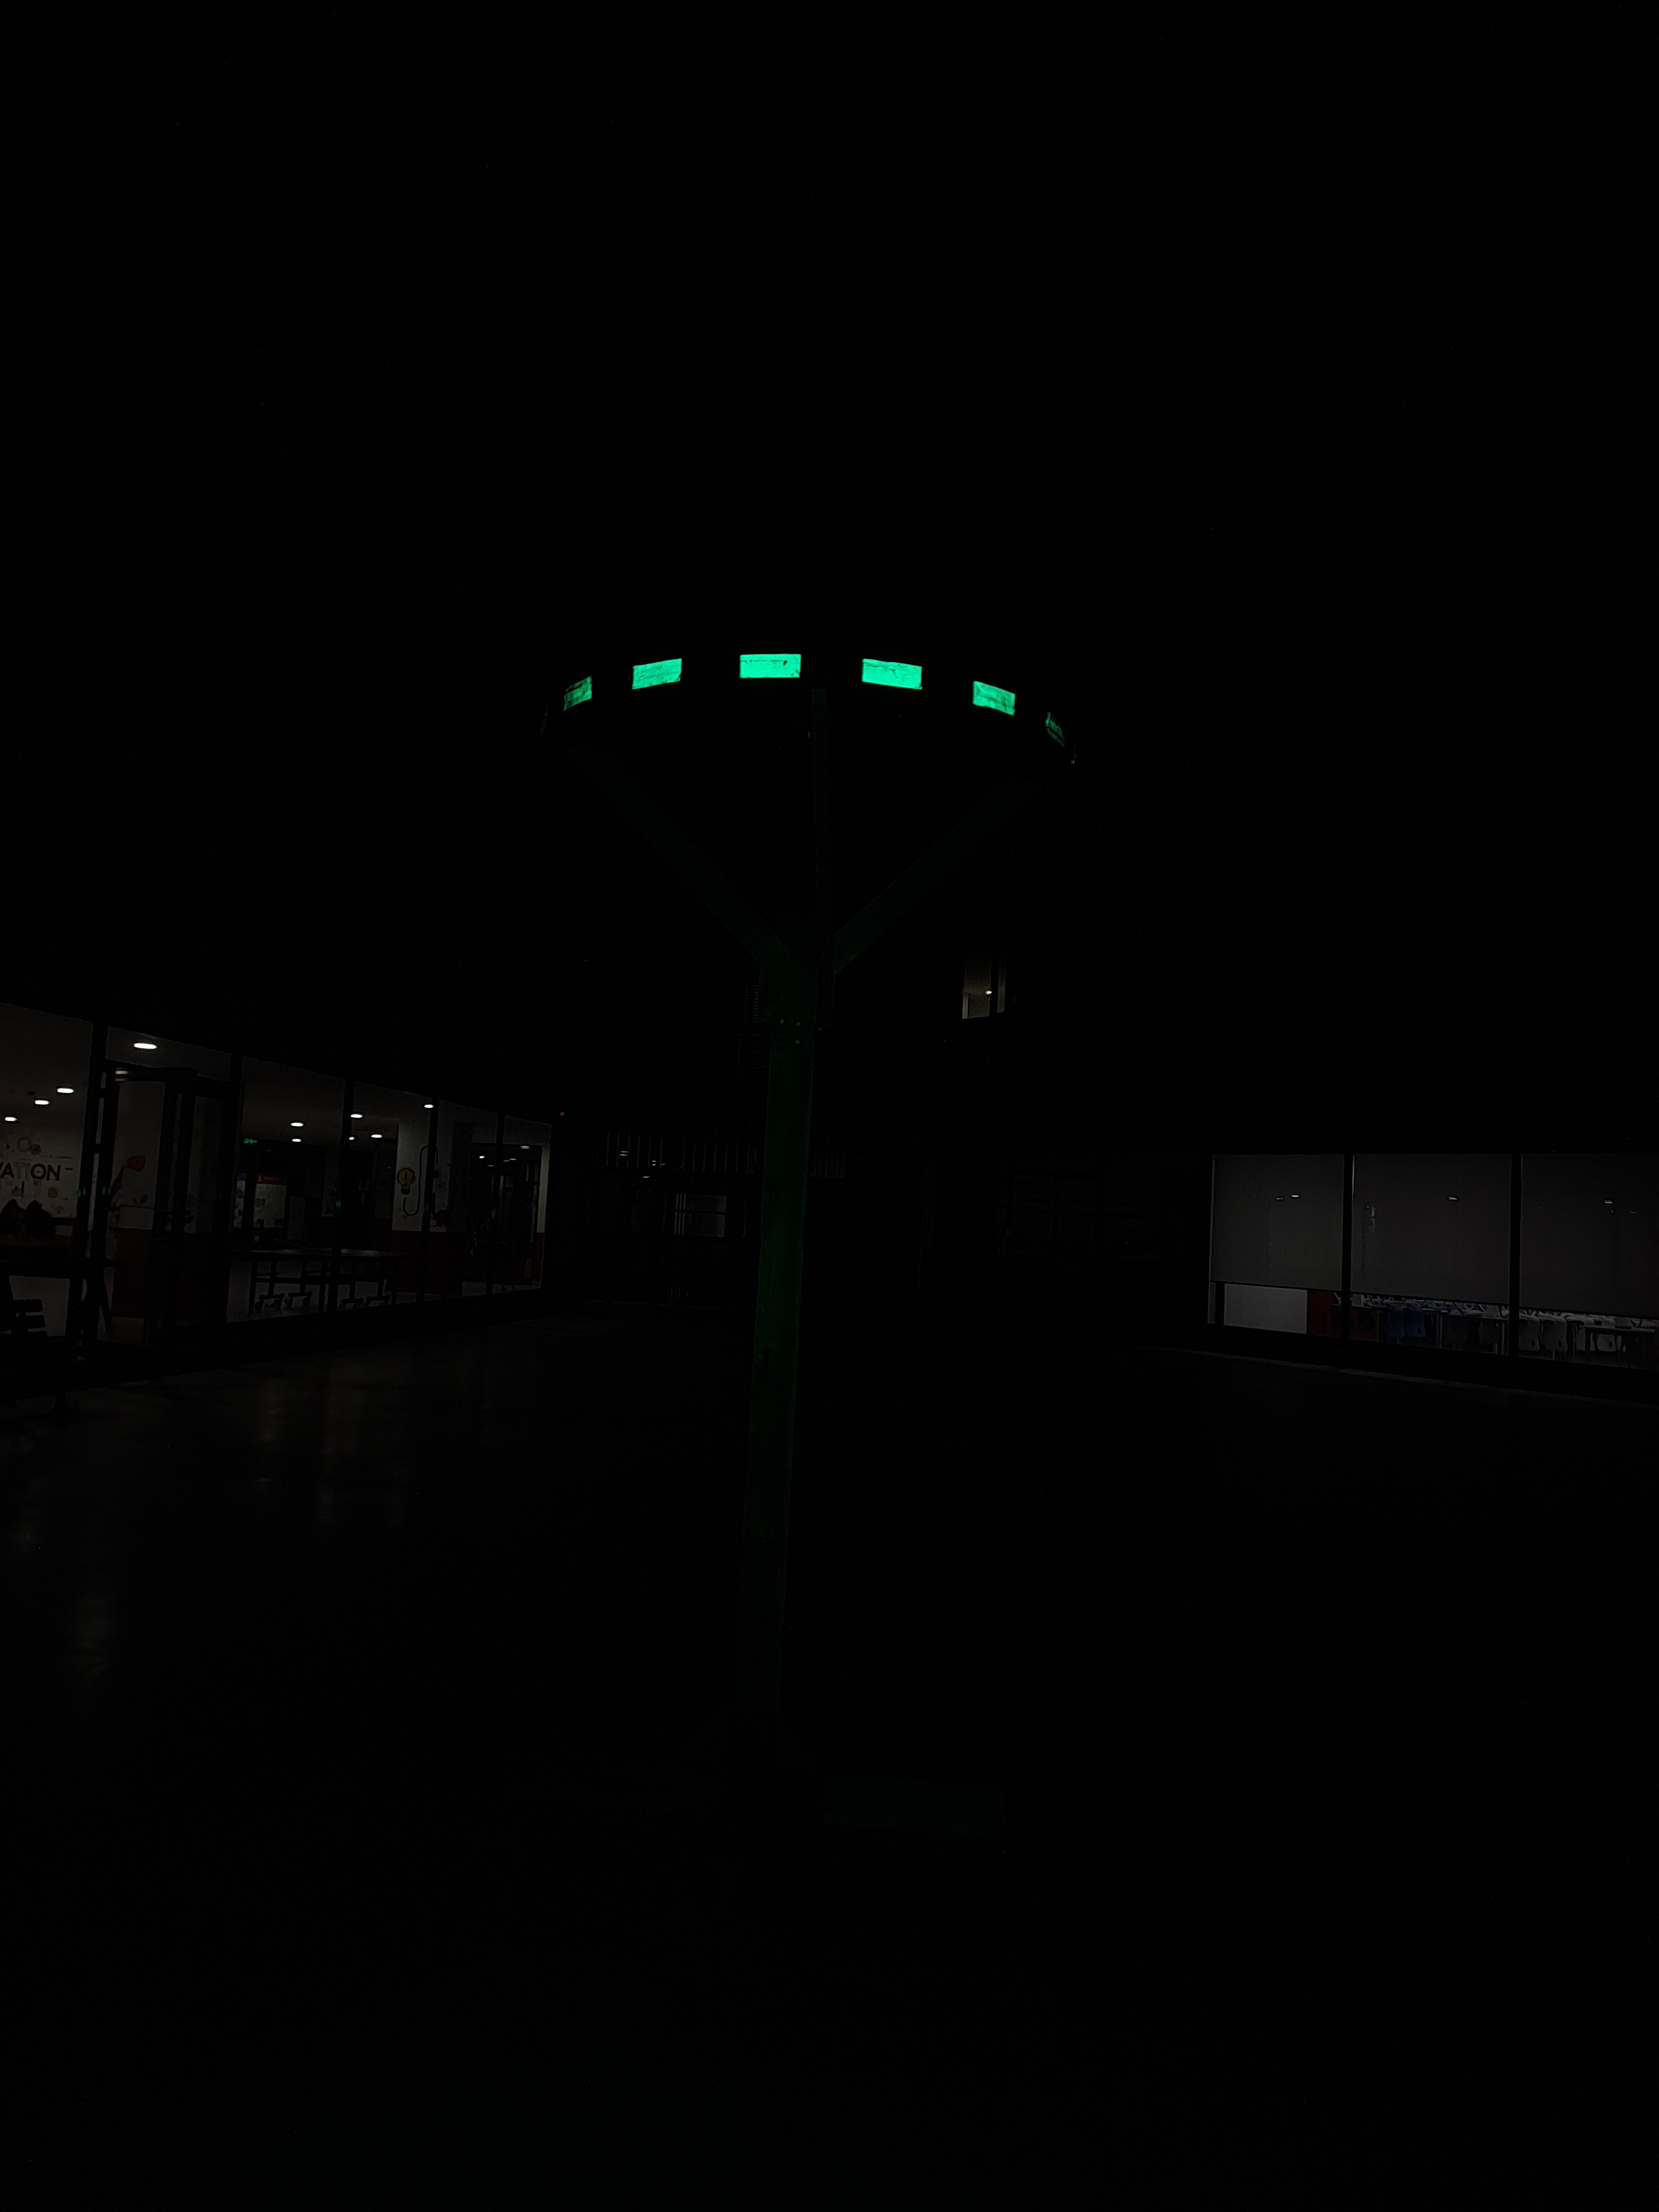hoop: (558, 634, 1025, 735)
